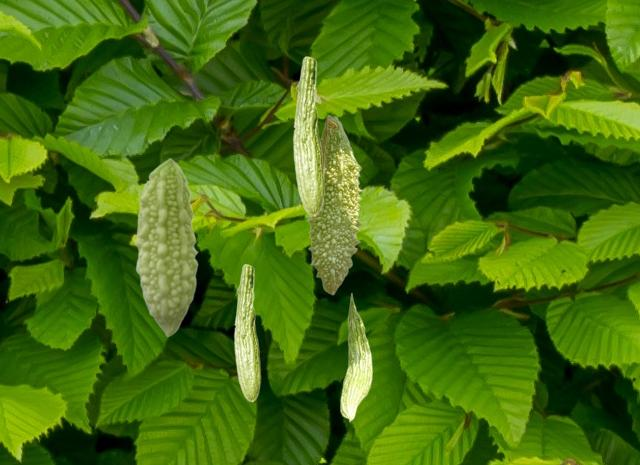ampalaya: (134, 157, 198, 337), (306, 114, 363, 295), (292, 55, 325, 217), (339, 292, 373, 422), (233, 263, 261, 402)
